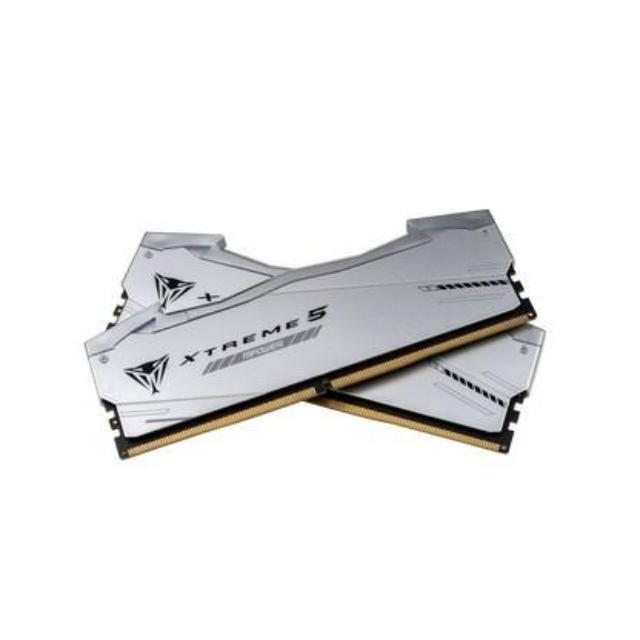RAM: (72, 194, 554, 472)
